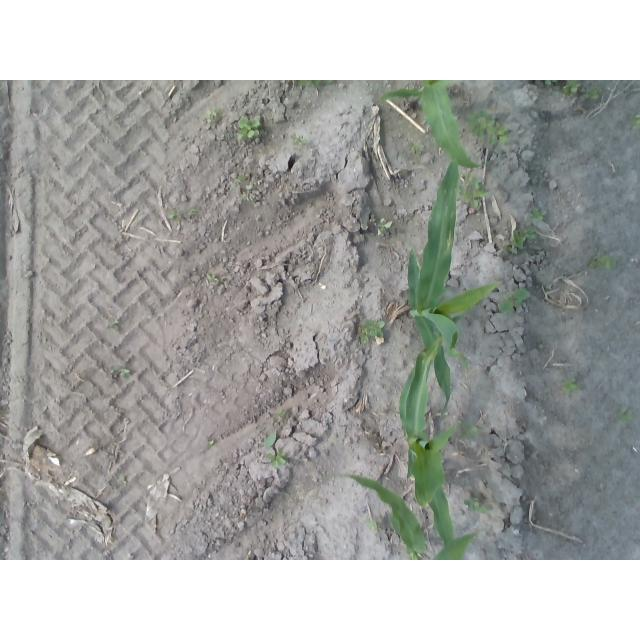Maize: (409, 159, 503, 422), (292, 80, 480, 170), (399, 335, 466, 548), (326, 472, 477, 560)
Weeds: (460, 170, 489, 208), (498, 287, 530, 311), (469, 112, 495, 137), (238, 117, 259, 140), (488, 124, 511, 144), (465, 498, 488, 515), (589, 255, 616, 269), (367, 319, 385, 337), (562, 81, 583, 96), (462, 423, 478, 441), (562, 377, 578, 395), (511, 231, 526, 249), (110, 366, 130, 379), (365, 517, 381, 533), (376, 218, 391, 234), (583, 87, 599, 102), (266, 452, 286, 464), (266, 432, 279, 449), (205, 107, 220, 121), (292, 132, 309, 144), (407, 143, 422, 156), (521, 226, 536, 239), (232, 174, 245, 188), (532, 208, 546, 221), (356, 329, 368, 344), (621, 406, 632, 422), (244, 186, 255, 201), (168, 209, 181, 221), (206, 273, 218, 284), (106, 319, 119, 329), (632, 114, 640, 130), (278, 412, 287, 420), (546, 80, 559, 85), (188, 207, 197, 214), (208, 441, 215, 447)
